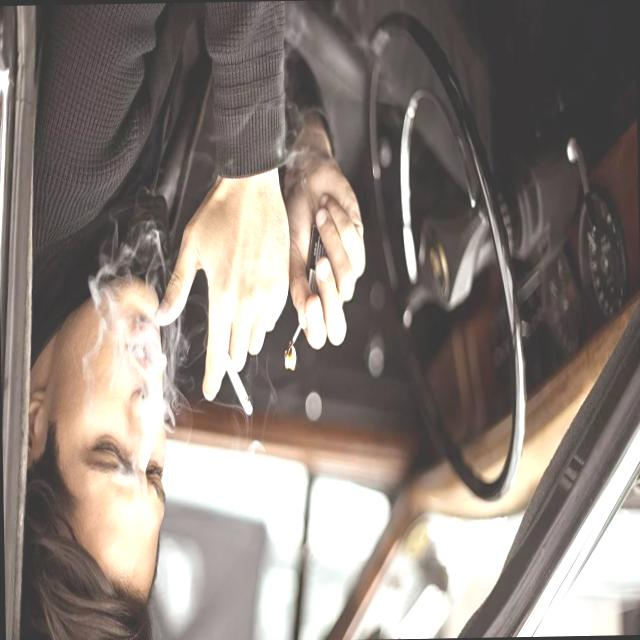cigarette: (220, 348, 254, 419)
